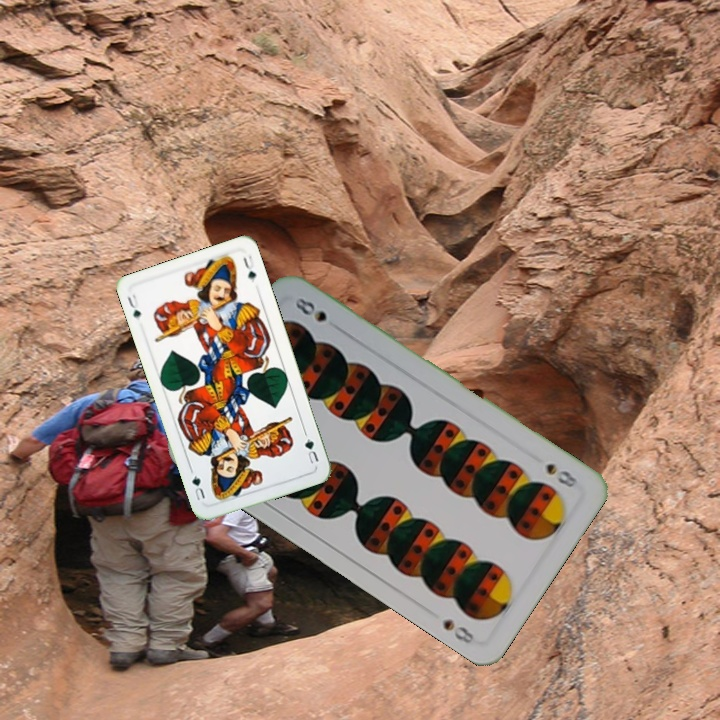GU: (300, 428, 321, 466), (123, 290, 143, 323)
S8: (542, 459, 582, 491)
